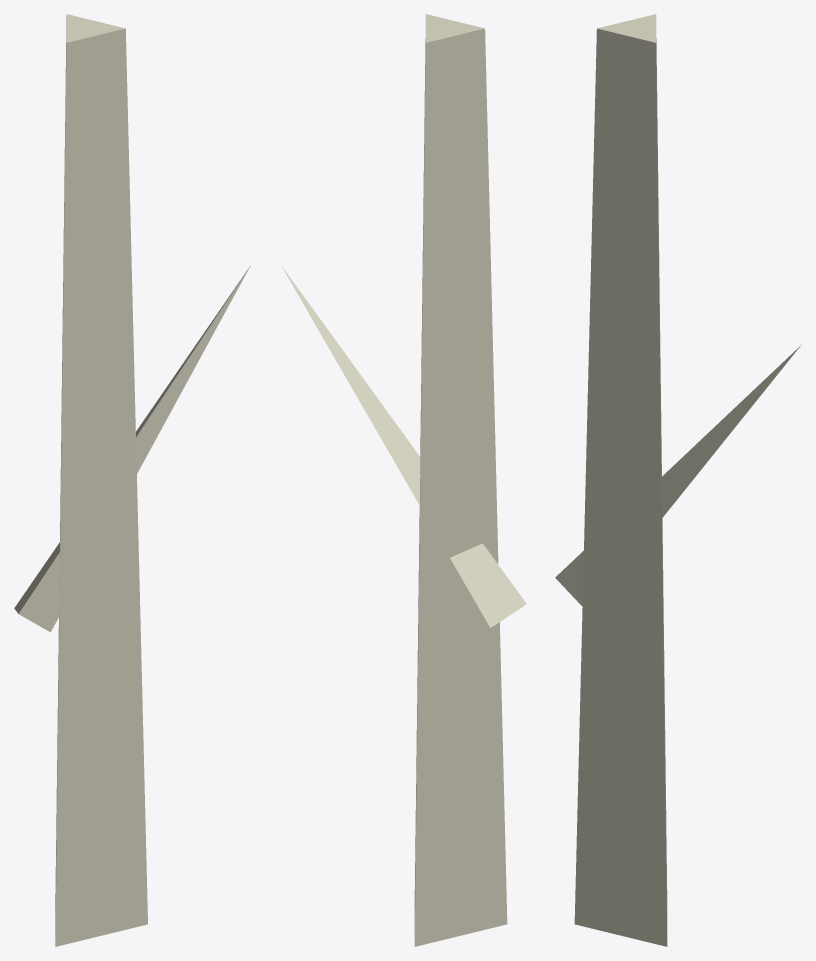
File: vfx_bolt_segment.glb
The picture shows the model from 3 angles, left to right: view 1: azimuth 30°, elevation 25°; view 2: azimuth 150°, elevation 25°; view 3: azimuth 330°, elevation 25°; orthographic projection.
Parts seen in each view (by area): view 1: vfx_bolt_segment; view 2: vfx_bolt_segment; view 3: vfx_bolt_segment.
Boxes of the visible parts, x1=… form: vfx_bolt_segment: x1=14, y1=14, x2=250, y2=946; vfx_bolt_segment: x1=281, y1=14, x2=526, y2=946; vfx_bolt_segment: x1=555, y1=14, x2=801, y2=946.
Bounding box in the file's own units: 0.2243 × 0.8 × 0.075.
